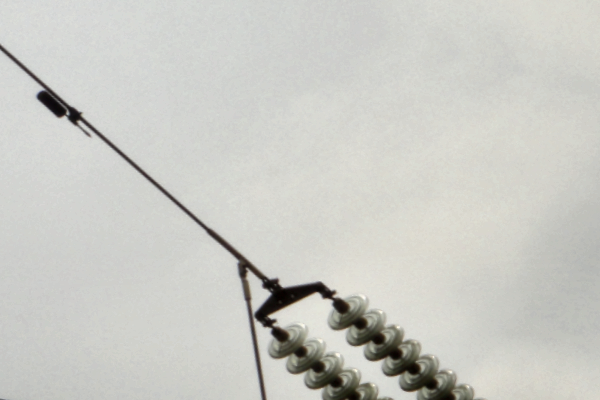damper_defect: (34, 88, 95, 143)
